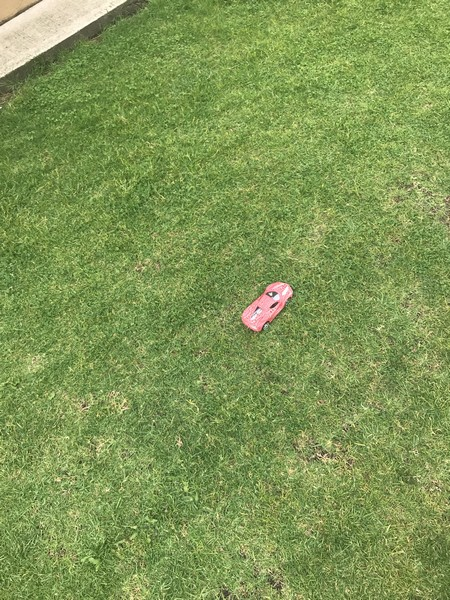RC: (239, 280, 294, 334)
